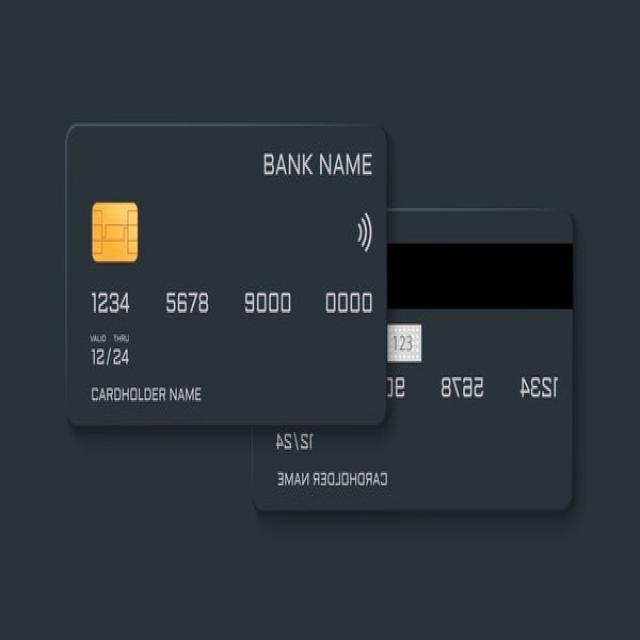payment_card: (63, 120, 389, 429), (249, 206, 575, 515)
